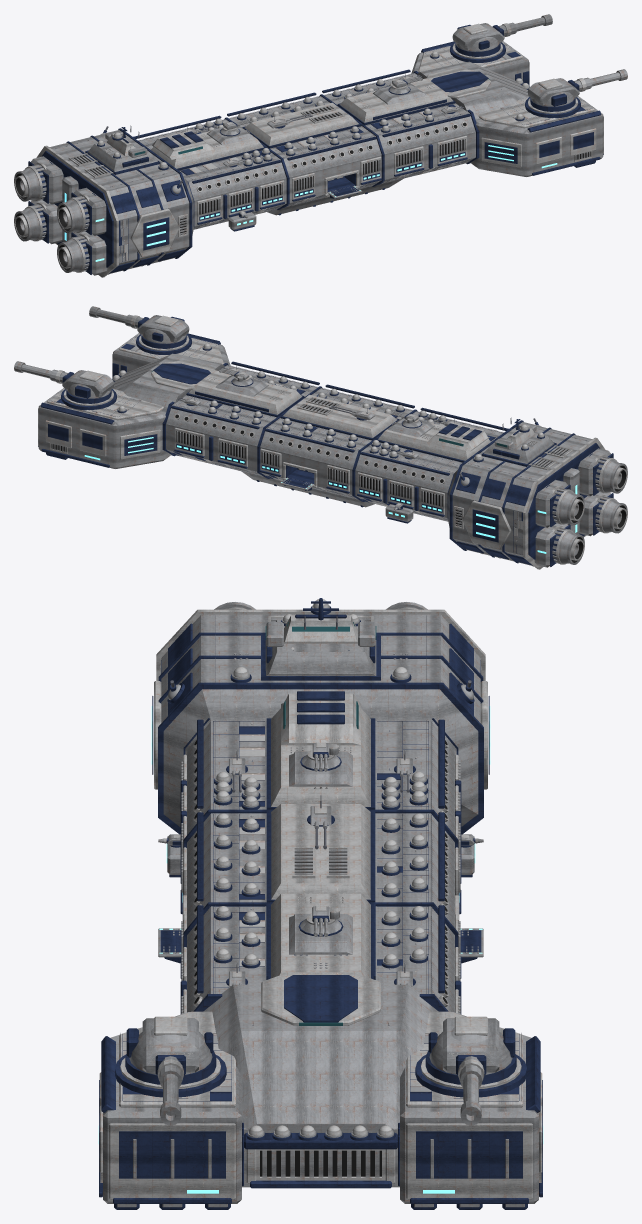
Rendered from 機戰風_聯盟.glb.
3 views of the same model, one above another, from view 1: azimuth 30°, elevation 25°; view 2: azimuth 150°, elevation 25°; view 3: azimuth 270°, elevation 25° (orthographic). The views are drawn at different scales.
Parts seen in each view (by area): view 1: stern_mid, hull_fore_mid, stern_dark, hull_aft_mid, hull_mid_hull_mid, bow_prong_mid.R, hull_mid_light, hull_aft_light, hull_fore_light, bow_prong_light.R, hull_aft_dark, stern_light (+21 smaller); view 2: stern_mid, hull_fore_mid, stern_dark, hull_aft_mid, hull_mid_hull_mid, bow_prong_mid, hull_mid_light, hull_aft_light, hull_fore_light, bow_prong_light, hull_aft_dark, stern_light (+21 smaller); view 3: bow_centre_mid, stern_mid, hull_aft_mid, hull_fore_mid, hull_mid_hull_mid, stern_dark, hull_mid_light, bow_prong_dark, bow_prong_dark.R, hull_aft_light, bow_prong_light.R, bow_prong_light (+18 smaller).
Part boxes in pixels (x1,y1,x2,y2): stern_mid: (31, 133, 193, 275); hull_fore_mid: (324, 73, 475, 183); stern_dark: (28, 128, 192, 274); hull_aft_mid: (138, 119, 286, 229); hull_mid_hull_mid: (229, 96, 381, 206); bow_prong_mid.R: (470, 96, 603, 176); hull_mid_light: (244, 102, 381, 201); hull_aft_light: (151, 131, 284, 224); hull_fore_light: (339, 78, 467, 176); bow_prong_light.R: (478, 96, 603, 167); hull_aft_dark: (133, 115, 289, 231); stern_light: (36, 145, 187, 277); stern_mid: (448, 425, 610, 567); hull_fore_mid: (166, 365, 317, 476); stern_dark: (449, 420, 613, 566); hull_aft_mid: (355, 411, 503, 521); hull_mid_hull_mid: (260, 388, 412, 499); bow_prong_mid: (38, 388, 171, 468); hull_mid_light: (260, 394, 397, 493); hull_aft_light: (357, 423, 490, 516); hull_fore_light: (174, 370, 302, 468); bow_prong_light: (38, 388, 163, 459); hull_aft_dark: (352, 407, 508, 523); stern_light: (454, 437, 605, 569); bow_centre_mid: (203, 984, 438, 1187); stern_mid: (161, 614, 480, 827); hull_aft_mid: (167, 721, 474, 874); hull_fore_mid: (181, 906, 460, 1014); hull_mid_hull_mid: (187, 813, 454, 927); stern_dark: (152, 623, 489, 834); hull_mid_light: (182, 804, 459, 947); bow_prong_dark: (398, 1036, 542, 1209); bow_prong_dark.R: (99, 1036, 243, 1209); hull_aft_light: (183, 693, 458, 847); bow_prong_light.R: (99, 1011, 235, 1199); bow_prong_light: (406, 1011, 542, 1199).
Size of the model in its own units: 1200 by 256 by 423.
7 materials, 4 textured.
